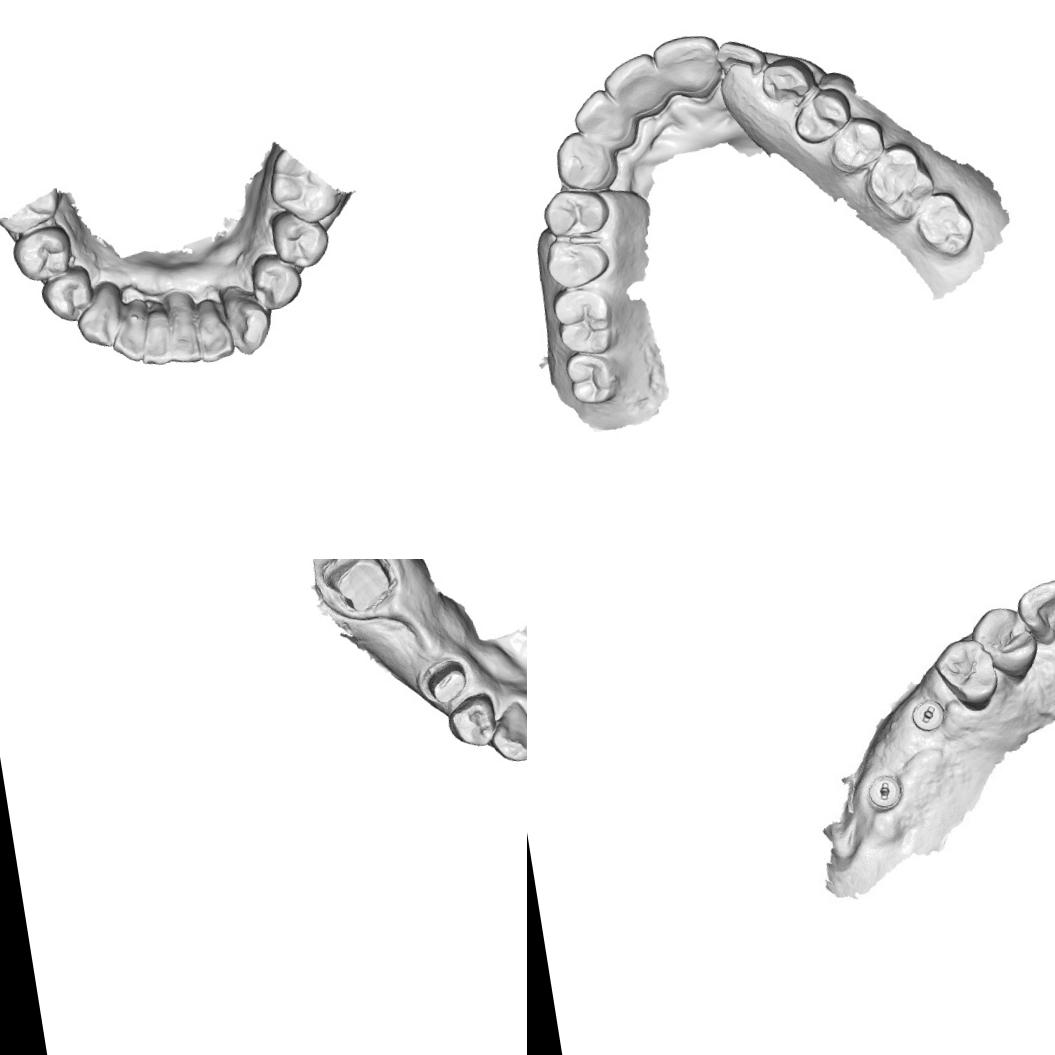canine: (548, 124, 616, 195), (69, 281, 128, 353), (217, 289, 275, 361), (758, 51, 819, 106), (482, 697, 527, 768)
crown: (316, 559, 402, 621), (418, 656, 472, 708)
implant_minus: (864, 768, 904, 812), (910, 696, 944, 731)
incisor: (646, 29, 724, 102), (596, 49, 667, 116), (566, 82, 634, 151), (1011, 574, 1055, 650), (105, 306, 158, 368), (710, 33, 766, 82), (161, 307, 204, 370), (137, 306, 180, 368), (190, 310, 236, 366)
molar: (859, 136, 939, 229), (262, 145, 341, 232), (547, 278, 624, 362), (909, 185, 981, 265), (558, 344, 634, 415)
premolar: (928, 631, 1001, 718), (967, 601, 1038, 686), (264, 202, 334, 276), (538, 230, 617, 294), (538, 182, 614, 246), (8, 220, 80, 287), (786, 82, 856, 148), (824, 110, 891, 176), (243, 248, 308, 316), (36, 263, 100, 327), (442, 688, 503, 754)
